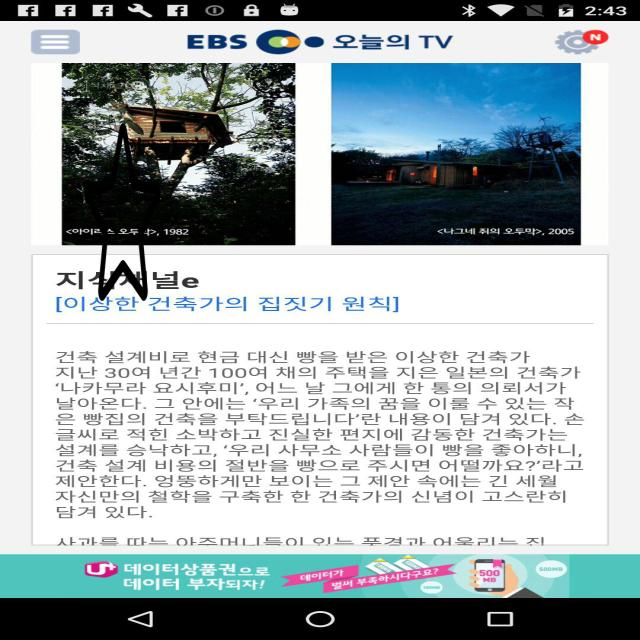forced continuity: (85, 119, 161, 305)
